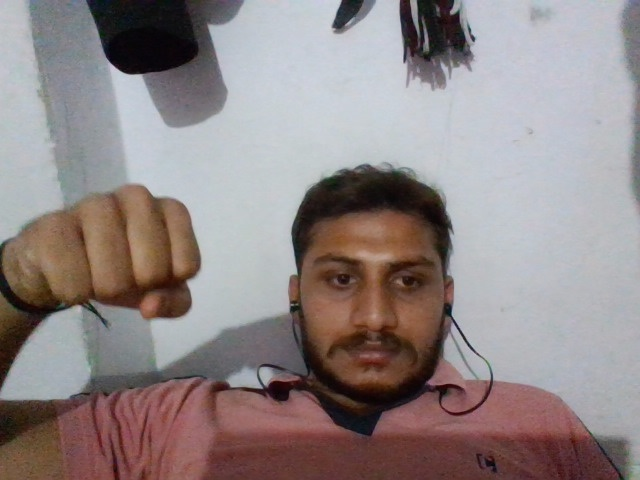Yes: (3, 178, 207, 325)
